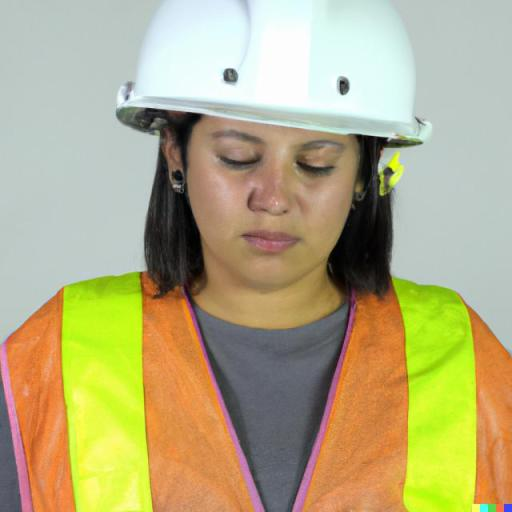helmet: (118, 4, 432, 136)
vest: (15, 274, 506, 508)
